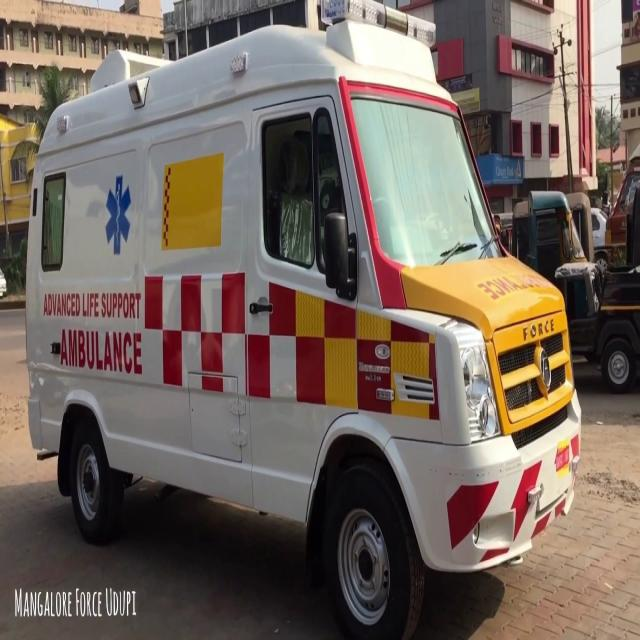emergency: (26, 4, 580, 638)
